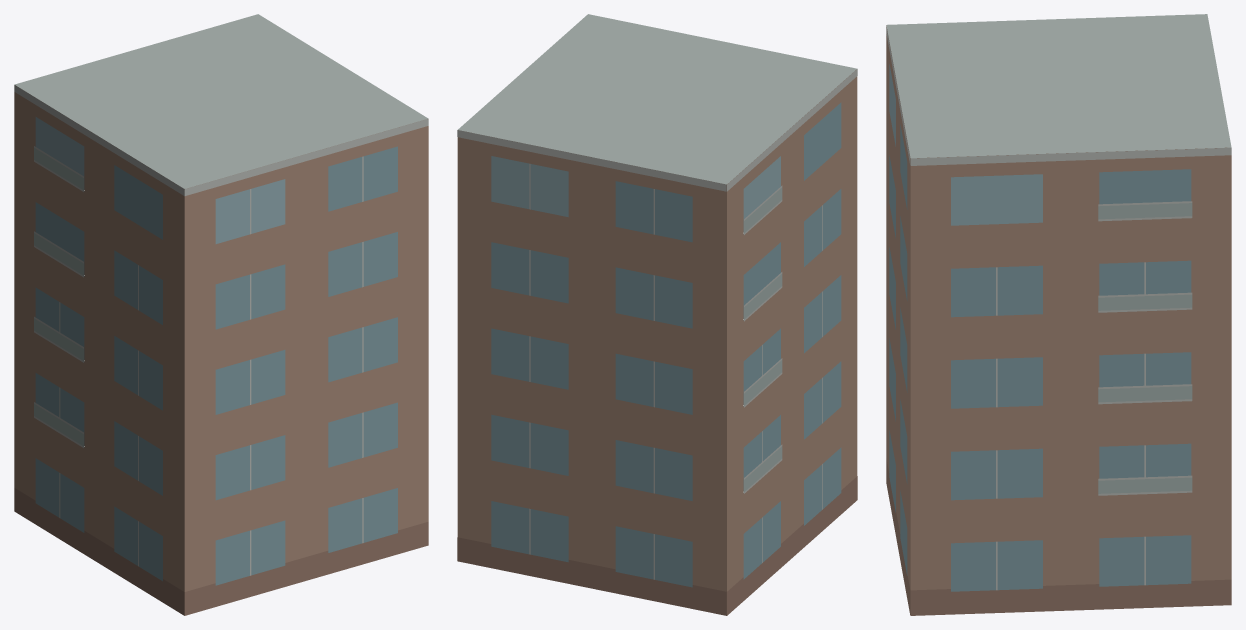
Rendered from survey-upis-33036900.glb.
3 views of the same model, side by side, from view 1: azimuth 30°, elevation 25°; view 2: azimuth 150°, elevation 25°; view 3: azimuth 270°, elevation 25° (orthographic). The views are drawn at different scales.
Parts seen in each view (by area): view 1: survey-upis-33036900.tmp; view 2: survey-upis-33036900.tmp; view 3: survey-upis-33036900.tmp.
Part boxes in pixels (x1,y1,x2,y2): survey-upis-33036900.tmp: (14, 14, 428, 615); survey-upis-33036900.tmp: (457, 14, 857, 615); survey-upis-33036900.tmp: (886, 14, 1231, 615).
Size of the model in its own units: 9.82 by 14.5 by 9.93.
